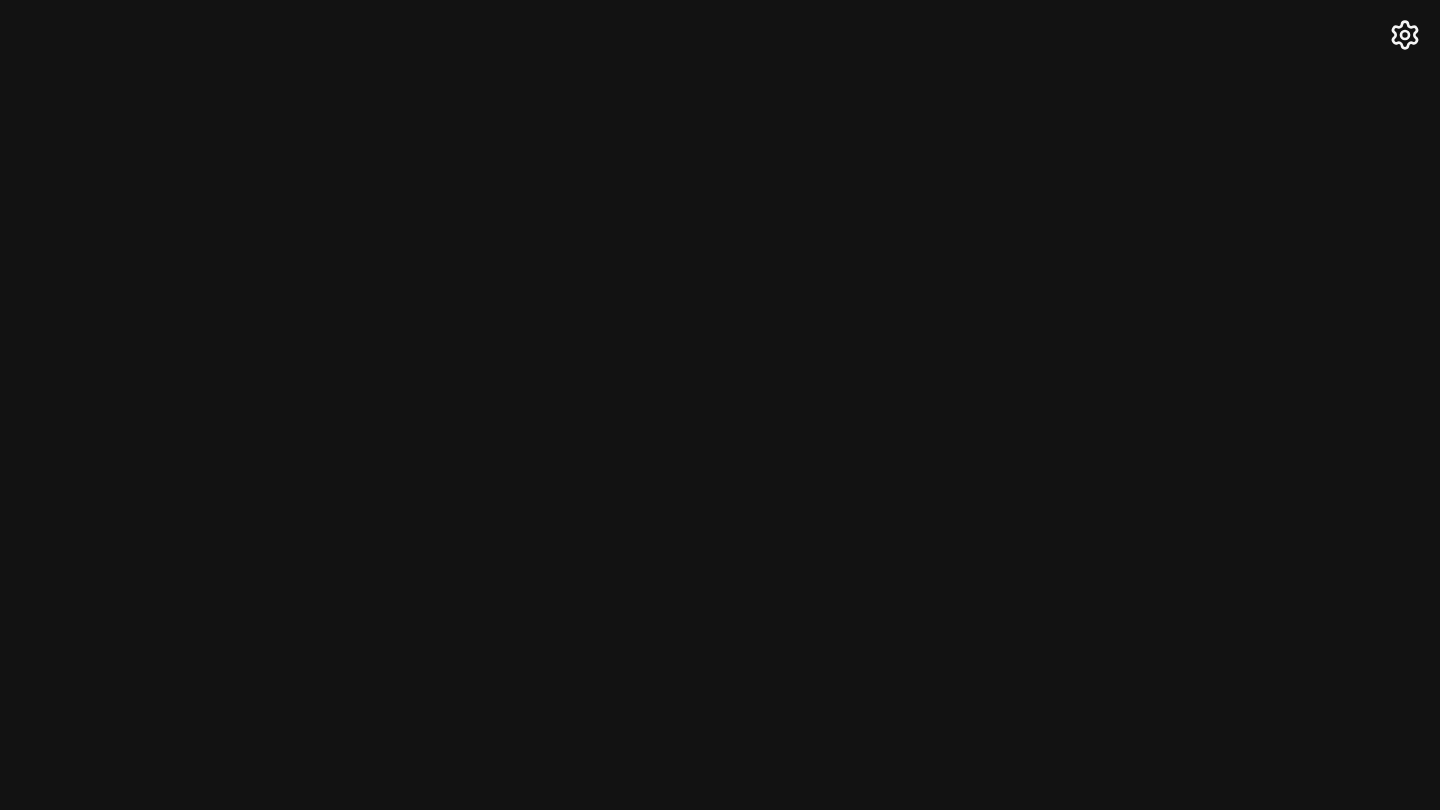
it: switches the interface language through settings
Click the button named "configurações": [1405, 35] box [1385,15,1425,55]
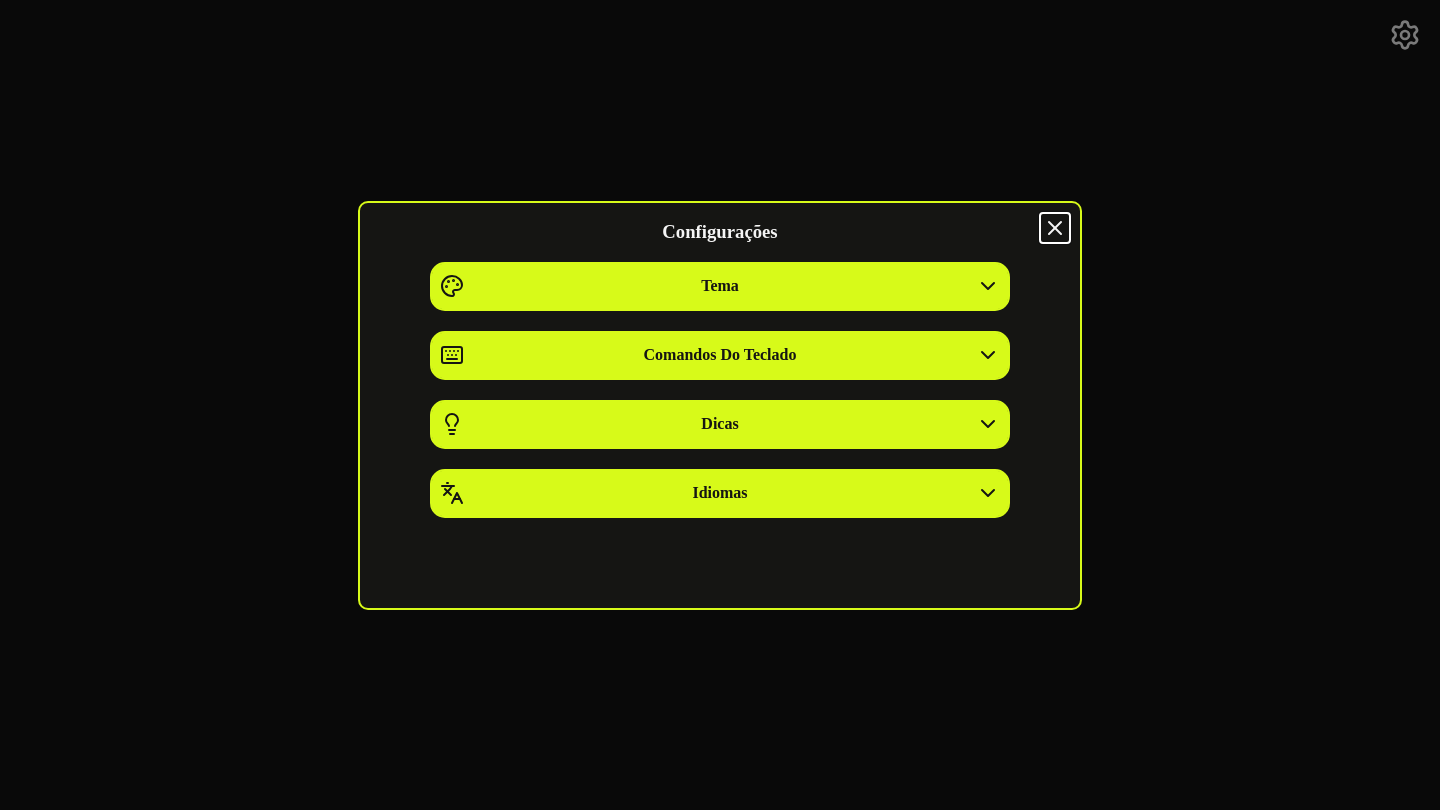
Click the button "idiomas": [720, 493] box [432,471,1008,516]
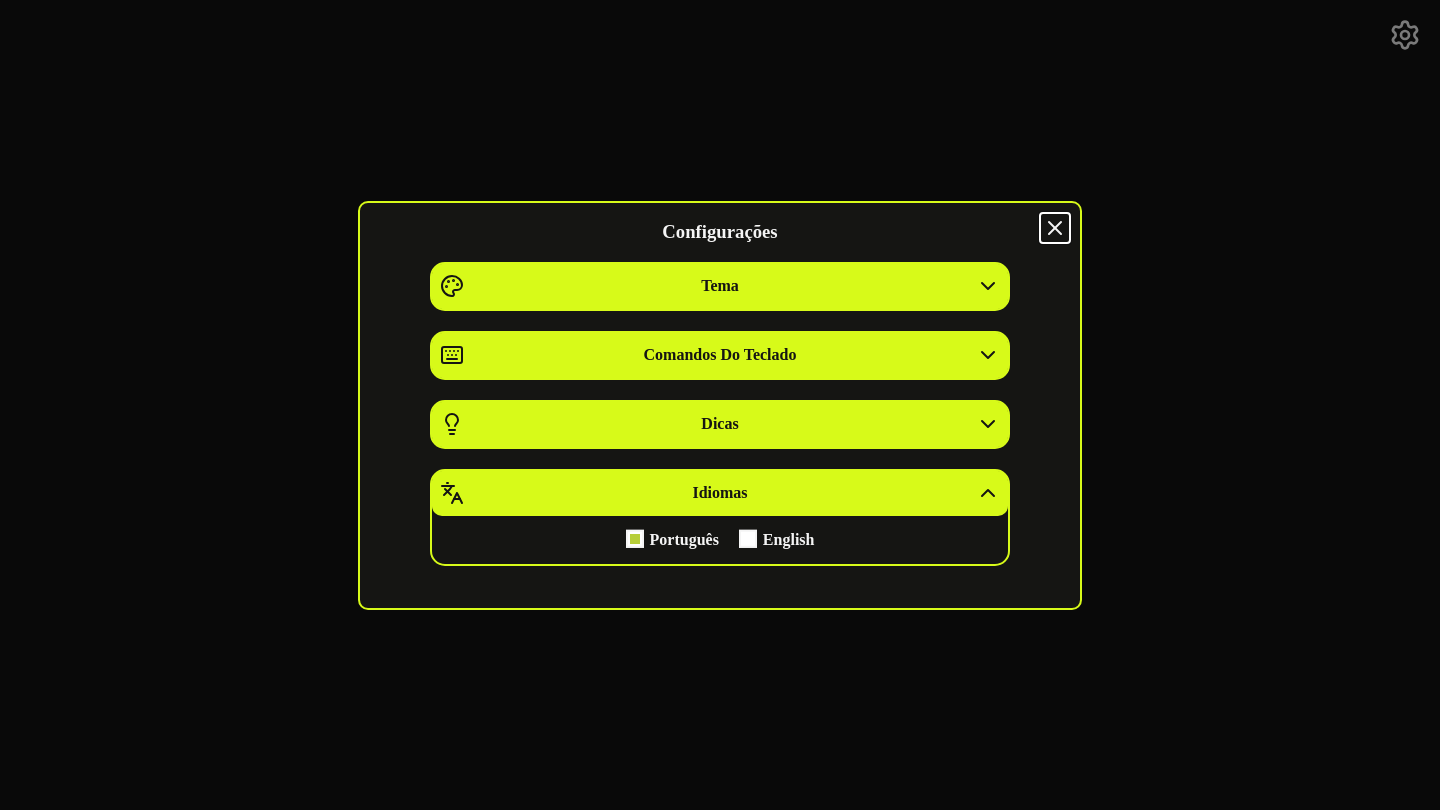
Click the checkbox labelled "English": [748, 539] box [739,530,757,548]
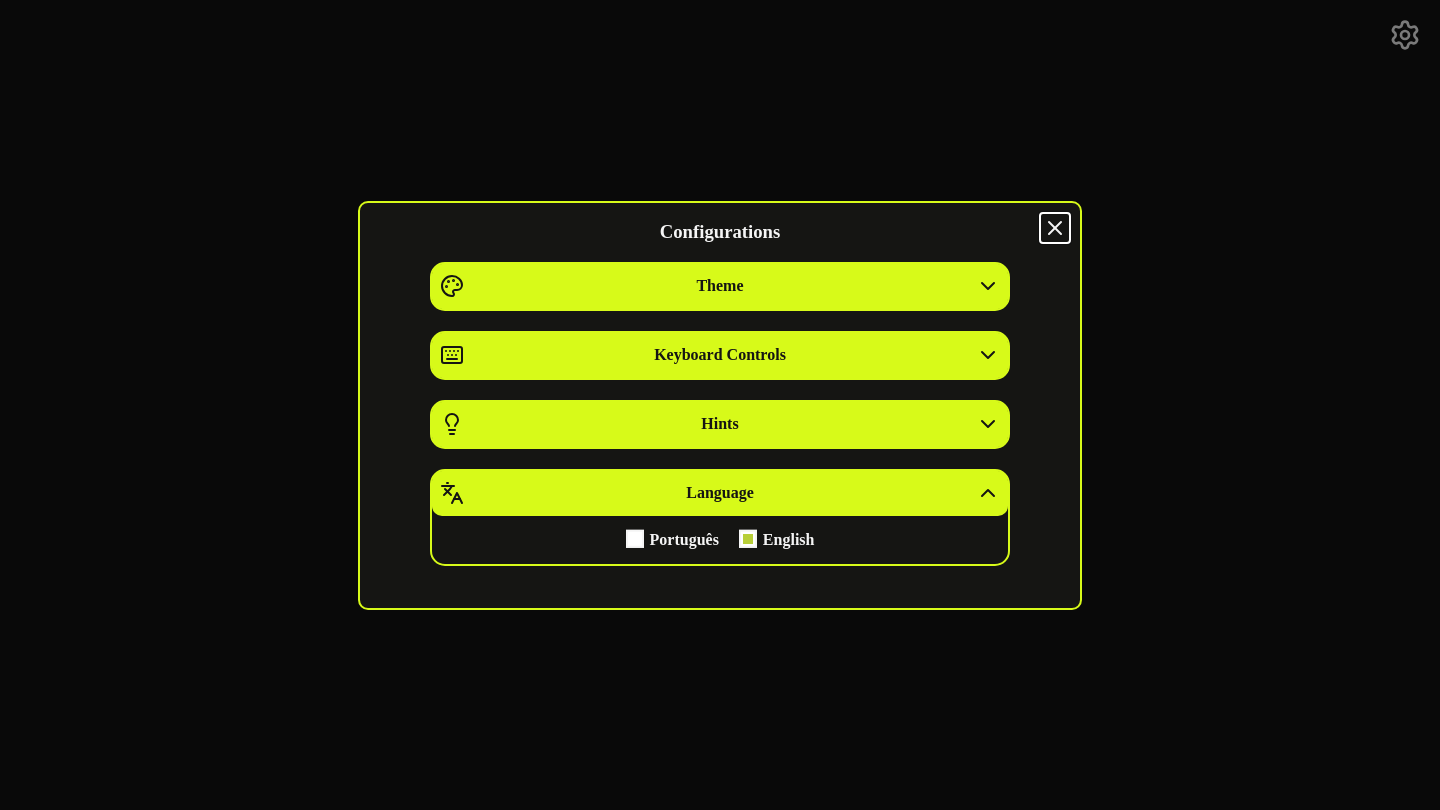
Check: the checkbox labelled "English" is checked, box [739,530,757,548]
Check: the heading "configurations" is shown, box [660,221,780,242]
Check: the checkbox labelled "Português" is not checked, box [626,530,644,548]
